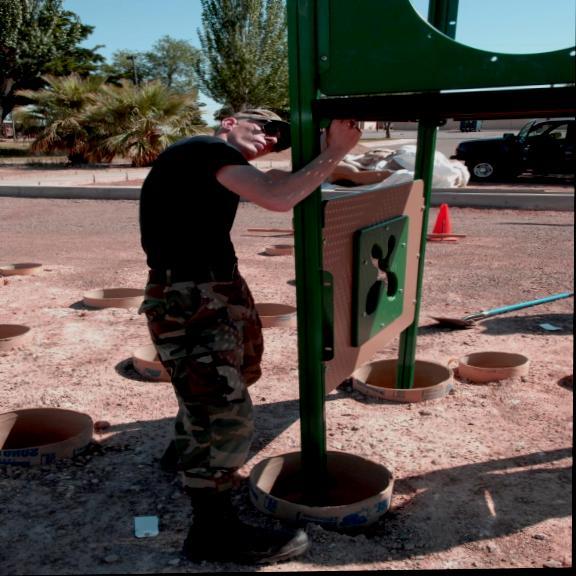no_safety_vest: (140, 130, 245, 277)
